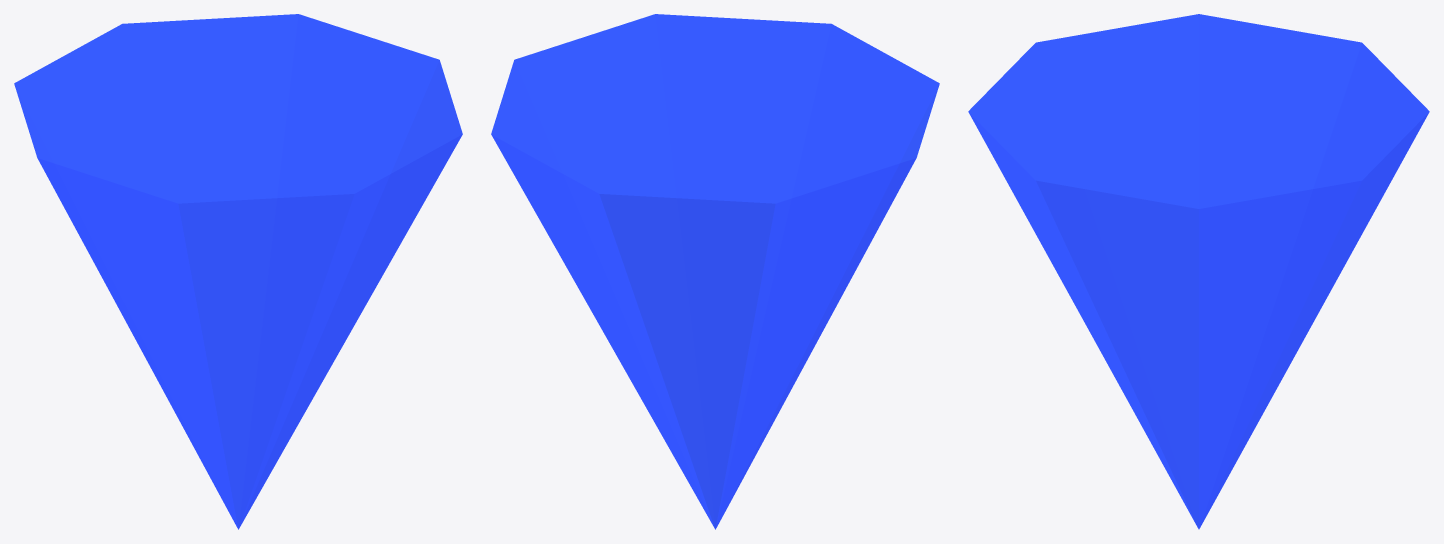
File: enemy_blue.glb
3 renders of one model, left to right at view 1: azimuth 30°, elevation 25°; view 2: azimuth 150°, elevation 25°; view 3: azimuth 270°, elevation 25°, orthographic.
Parts seen in each view (by area): view 1: blue_cone; view 2: blue_cone; view 3: blue_cone.
Boxes of the visible parts, x1,y1,x2,y2 form: blue_cone: (14, 14, 462, 529); blue_cone: (491, 14, 939, 529); blue_cone: (968, 14, 1429, 529).
Size of what is drawn, in the model's own units: 0.5333 by 0.5333 by 0.5333.
